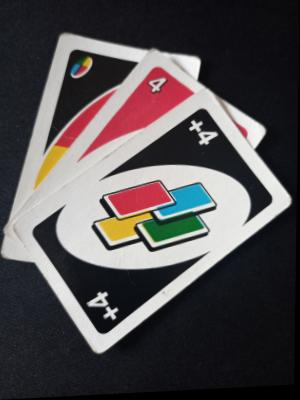colour: (64, 48, 101, 86)
num_4: (146, 70, 175, 102)
red: (9, 48, 203, 255)
wild-4: (7, 87, 295, 356)
